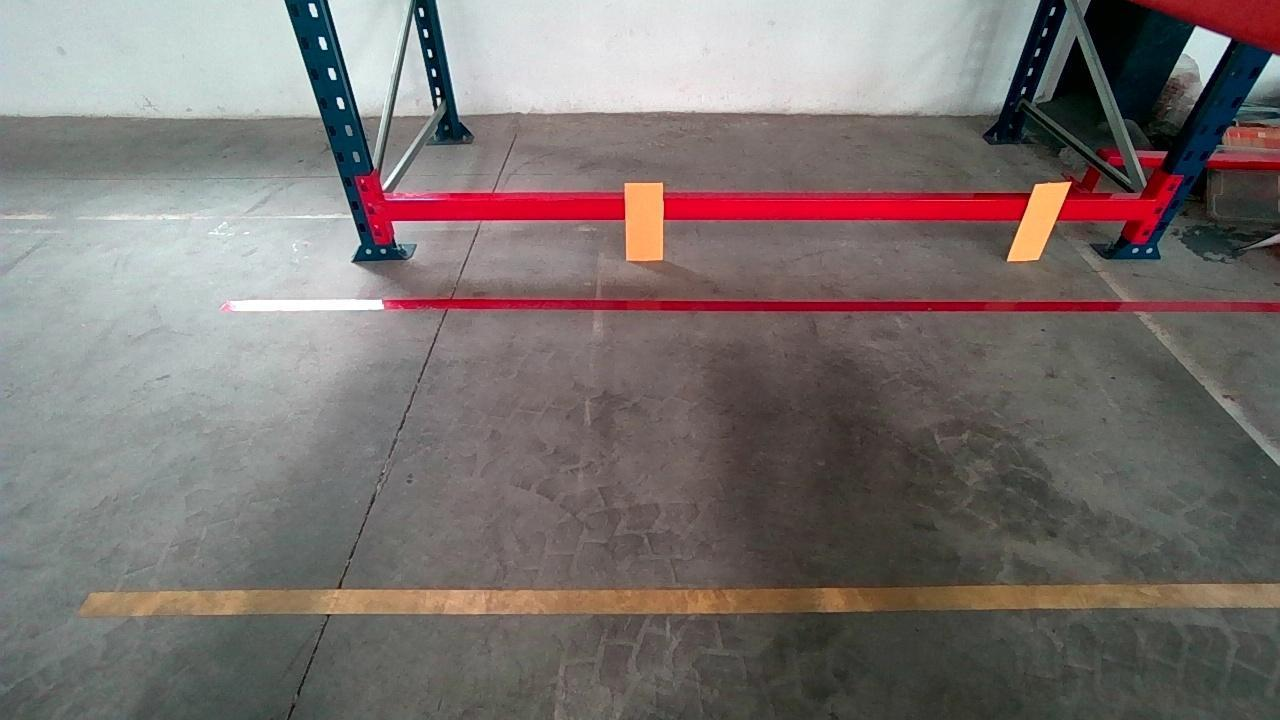h_rack: (382, 190, 1138, 230)
orange_strip: (1007, 182, 1074, 259), (625, 181, 664, 259)
red_line: (236, 285, 1275, 328)
yellow_line: (96, 570, 1275, 627)
